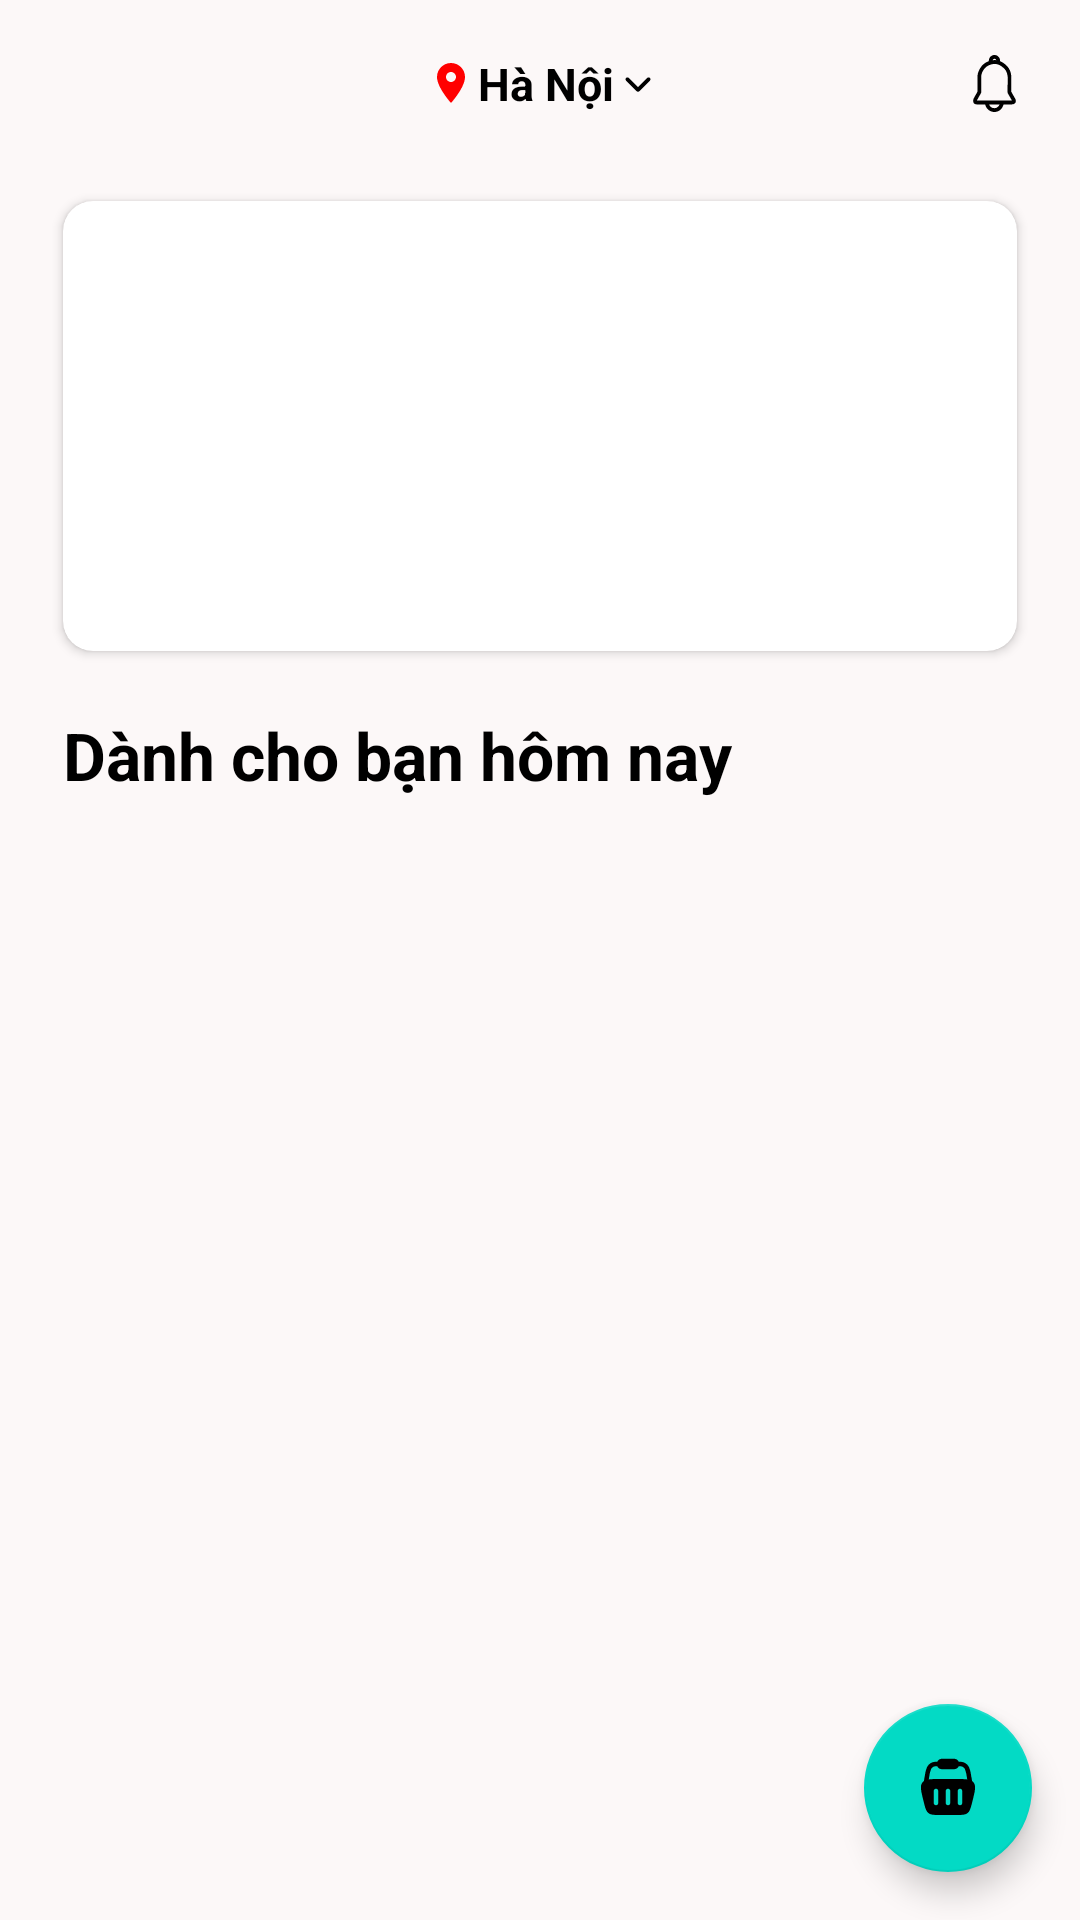

Screen size 1080px×1920px. Icon name, then its center in pixels as (x,y):
arrow down: (638,84)
cart: (948,1788)
Thông báo: (994,83)
Vị trí: (451,83)
